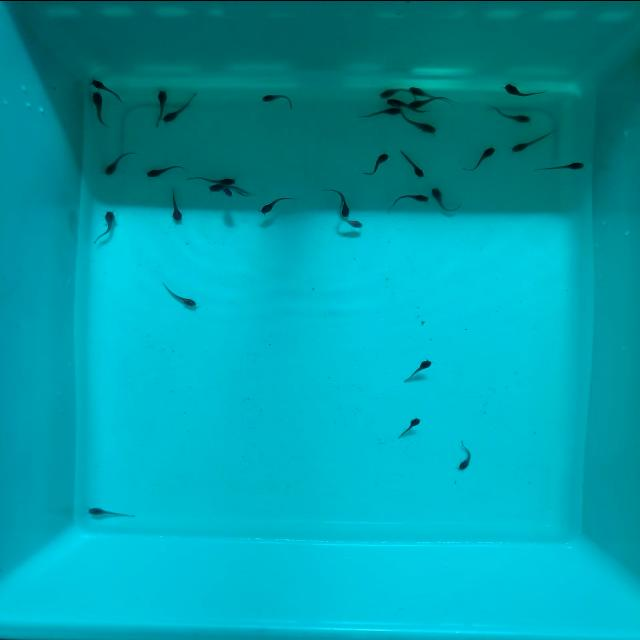lele: (509, 126, 559, 154), (161, 91, 201, 126), (395, 107, 442, 135), (160, 280, 200, 309), (102, 147, 139, 177), (409, 84, 455, 107), (89, 75, 126, 103), (463, 145, 499, 173), (487, 104, 535, 125), (93, 208, 121, 243), (402, 355, 435, 383), (398, 149, 428, 179), (502, 81, 550, 99), (430, 184, 457, 215), (259, 192, 297, 214), (89, 505, 138, 521), (363, 150, 392, 177), (531, 159, 586, 173), (385, 96, 430, 113), (144, 162, 187, 179), (408, 94, 455, 109), (91, 91, 110, 128), (395, 415, 424, 439), (334, 209, 365, 231), (153, 89, 170, 127), (359, 106, 403, 120), (389, 191, 430, 205), (378, 83, 411, 99), (169, 187, 184, 221), (189, 175, 238, 185), (335, 184, 350, 216), (460, 439, 475, 469), (261, 94, 295, 103), (208, 184, 245, 191), (222, 188, 258, 195)
